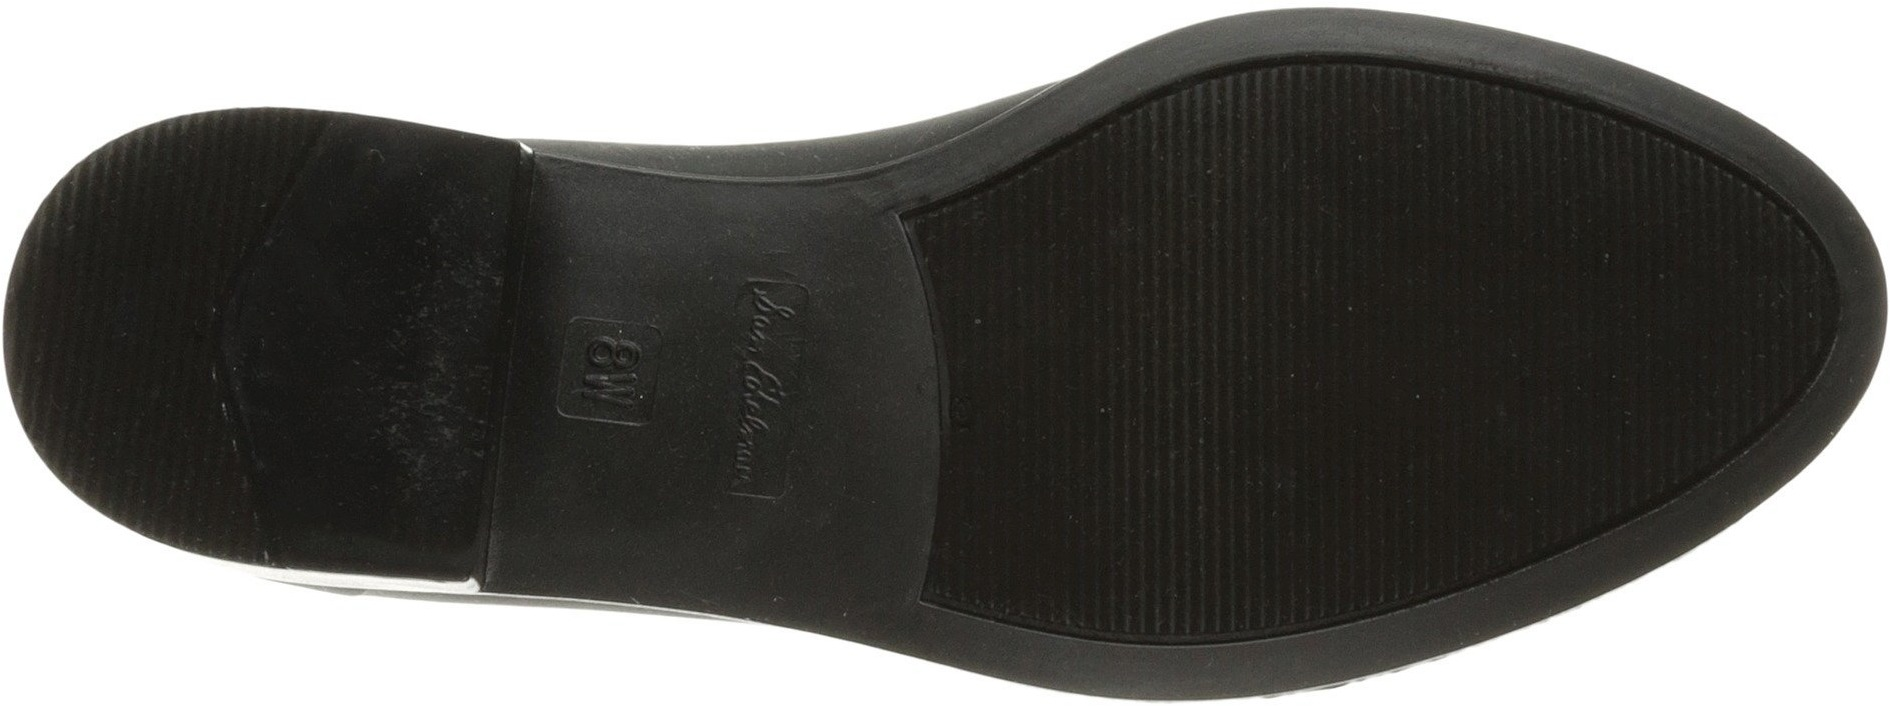other: (964, 200, 1222, 463), (1235, 86, 1496, 328), (1229, 341, 1495, 576), (1508, 180, 1757, 429), (28, 239, 221, 436), (522, 422, 704, 589), (1004, 470, 1174, 633), (262, 261, 399, 395)
text: (712, 282, 830, 386), (708, 398, 808, 498), (573, 323, 655, 416)
